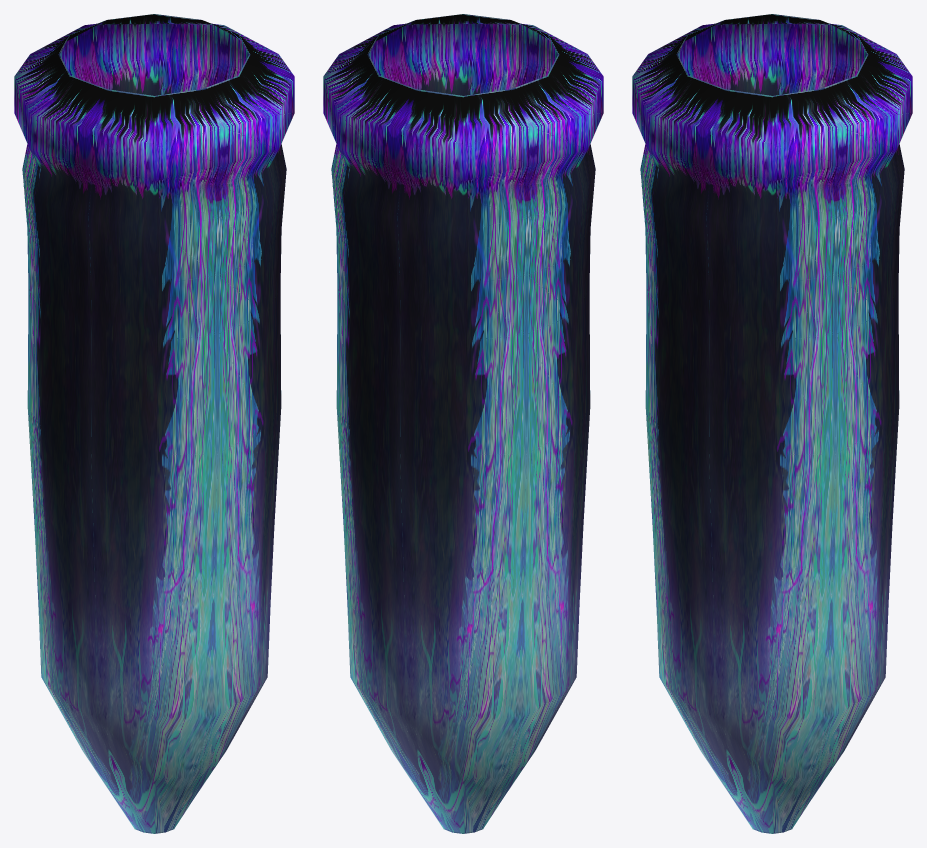
File: DowndownBone.fbx
The picture shows the model from 3 angles, left to right: view 1: azimuth 30°, elevation 25°; view 2: azimuth 150°, elevation 25°; view 3: azimuth 270°, elevation 25°; orthographic projection.
Visible parts, largest first — view 1: Cylinder; view 2: Cylinder; view 3: Cylinder.
Part boxes in pixels (bbox=[...]): Cylinder: bbox=[14, 14, 294, 833]; Cylinder: bbox=[323, 14, 603, 833]; Cylinder: bbox=[632, 14, 912, 833].
Size of the model in its own units: 252 by 753 by 246.
